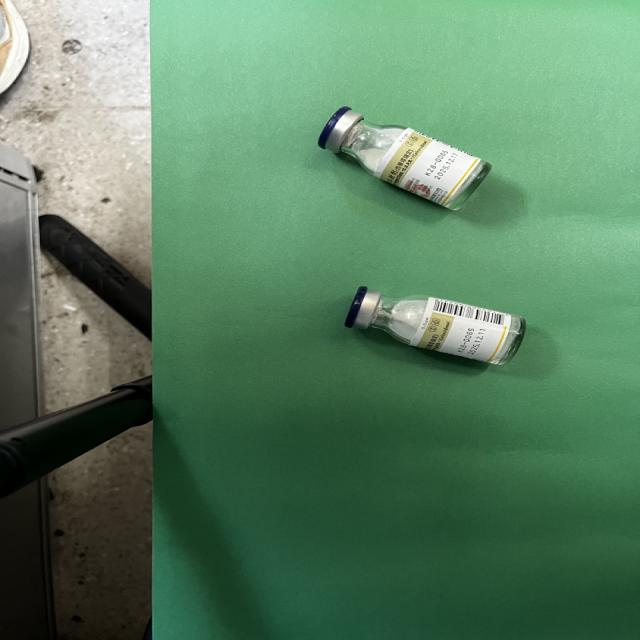Vials: (318, 106, 491, 210), (344, 286, 525, 364)
